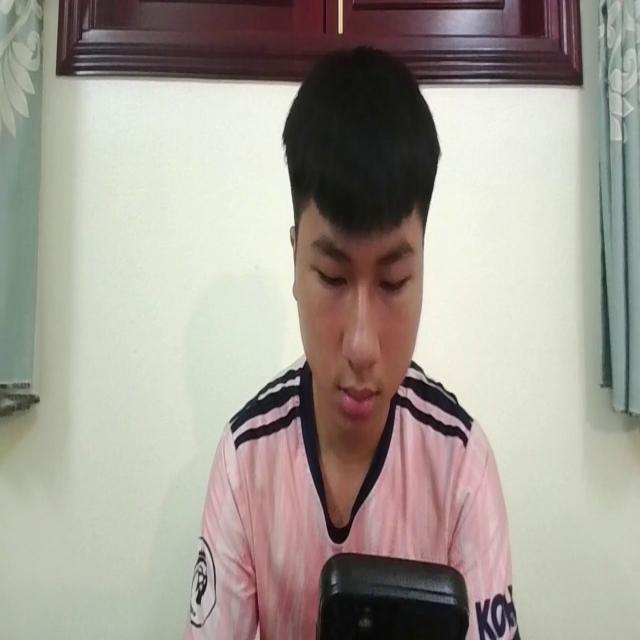phone: (311, 546, 470, 640)
student: (188, 42, 518, 640)
